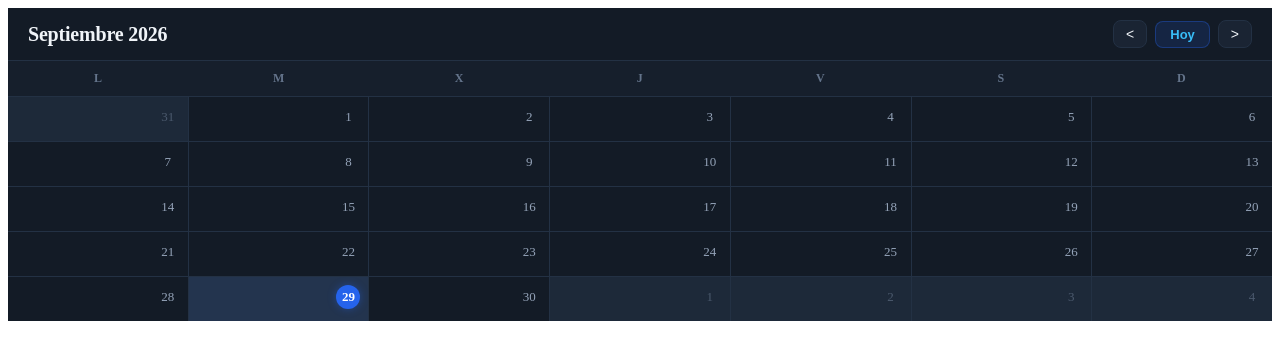
Test: MonthlyCalendarGrid Component › debería avanzar al mes siguiente al hacer clic en [>]
Click the button named "mes siguiente" at (1235,34), box x1=1218 y1=20 x2=1252 y2=48
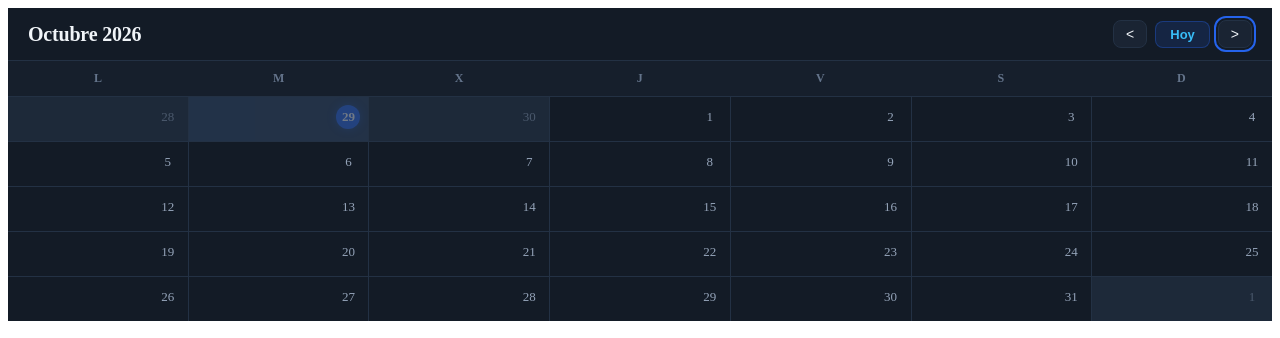
Now the heading reads "Octubre 2026", box x1=28 y1=22 x2=141 y2=46
